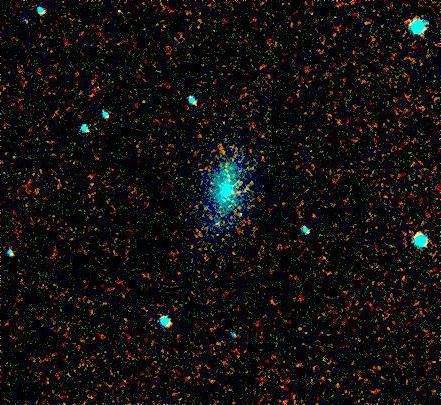star: (222, 196, 252, 226)
